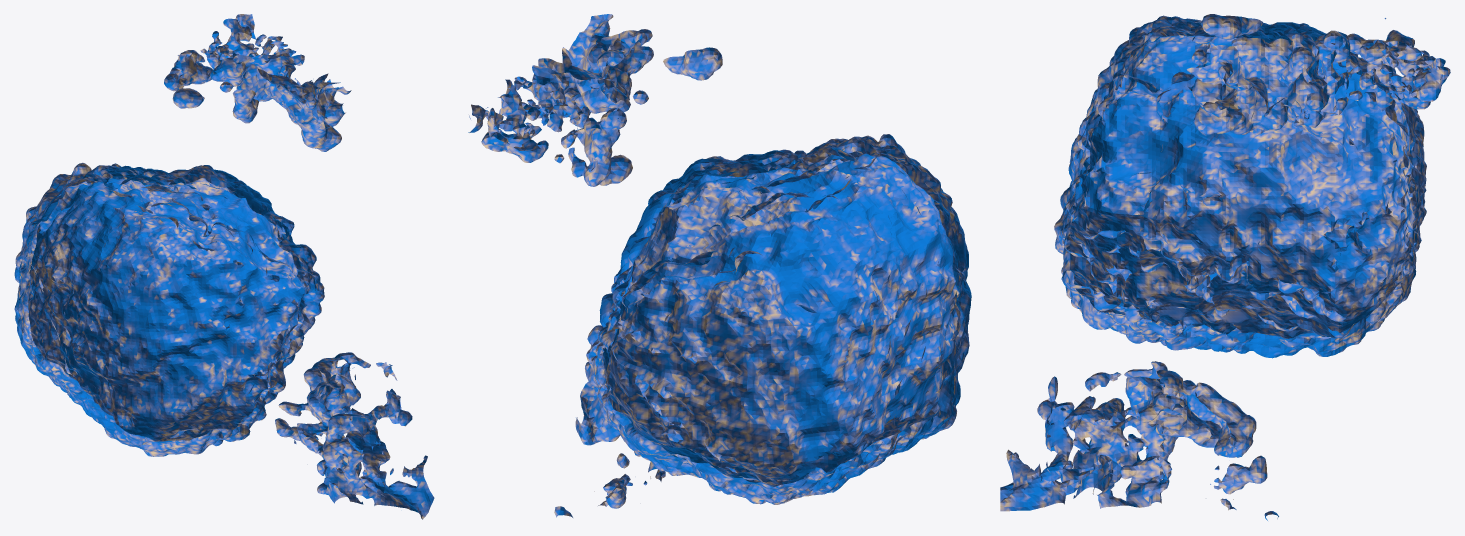
File: clustering_cache_00040_cluster_60_surface.glb
3 views of the same model, side by side, from view 1: azimuth 30°, elevation 25°; view 2: azimuth 150°, elevation 25°; view 3: azimuth 270°, elevation 25° (orthographic). The views are drawn at different scales.
Size of the model in its own units: 0.8046 by 0.9922 by 0.904.
